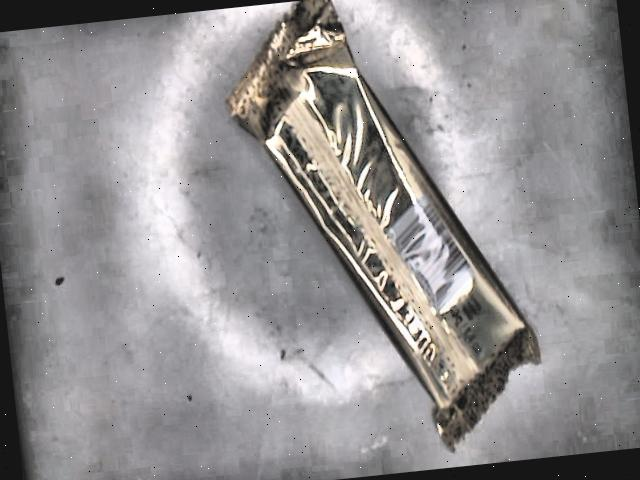Plastic: (228, 0, 542, 449)
